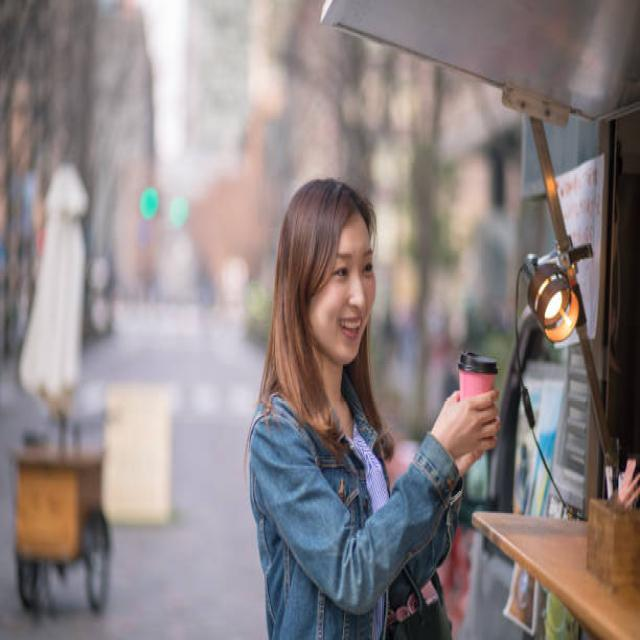Emperan: (291, 0, 640, 639)
